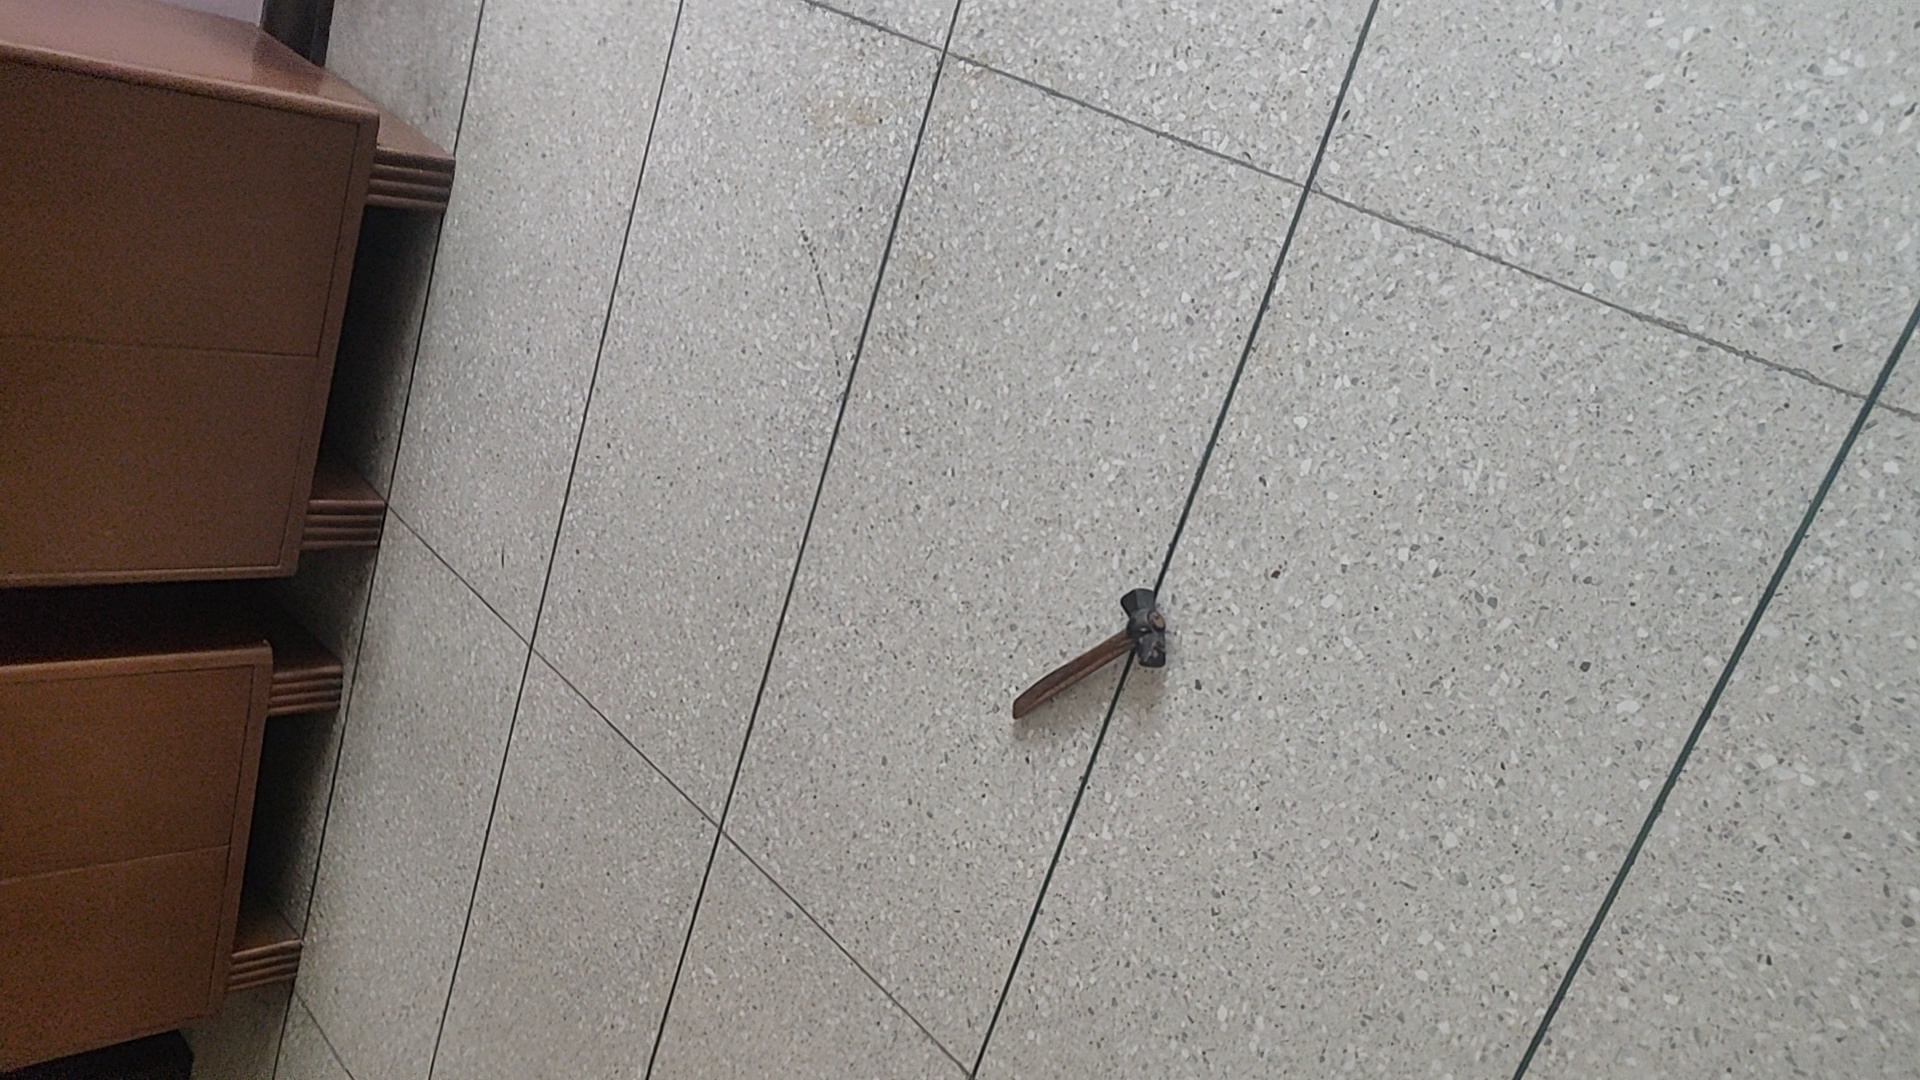hammer: (1006, 585, 1171, 721)
